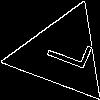L: (36, 29, 93, 72)
